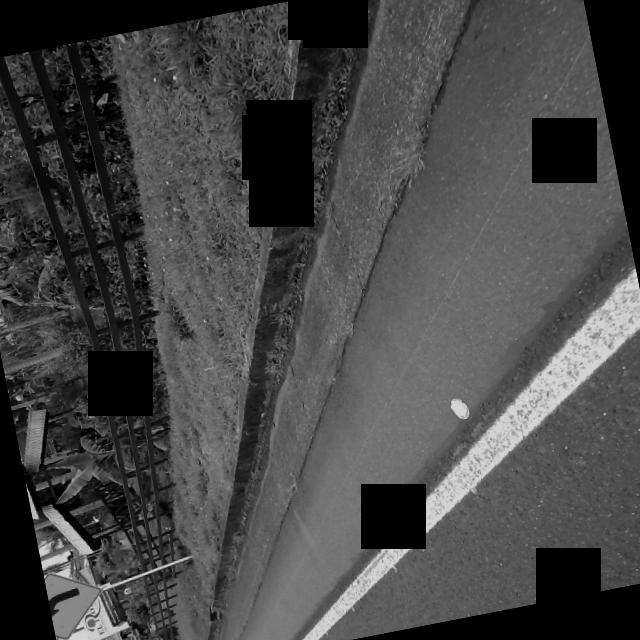DITCH: (37, 0, 640, 640), (79, 0, 640, 640), (82, 0, 640, 640)
